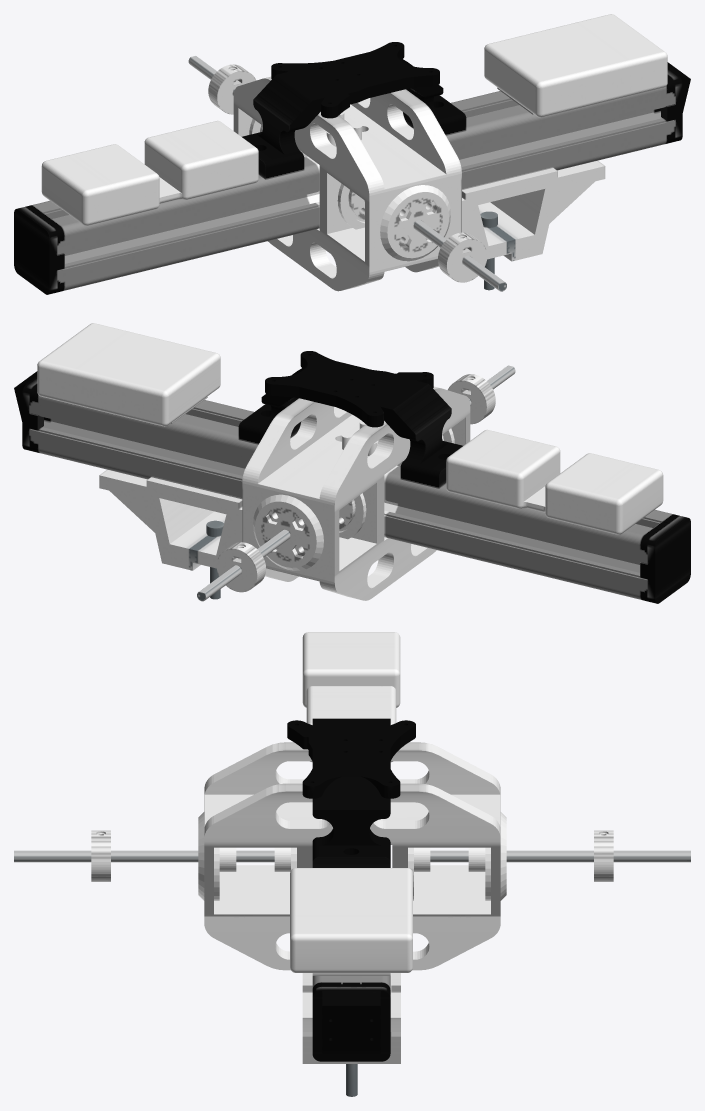
File: Chassis.dae
3 renders of one model, top to bottom at view 1: azimuth 30°, elevation 25°; view 2: azimuth 150°, elevation 25°; view 3: azimuth 270°, elevation 25°, orthographic. The views are drawn at different scales.
Parts seen in each view (by area): view 1: node; view 2: node; view 3: node.
Boxes of the visible parts, box(x1,y1,x2,y2) form: node: box(14, 14, 690, 294); node: box(14, 323, 690, 603); node: box(14, 632, 690, 1096).
Bounding box in the file's own units: 0.4183 × 0.1535 × 0.347.
1 material, 1 textured.
